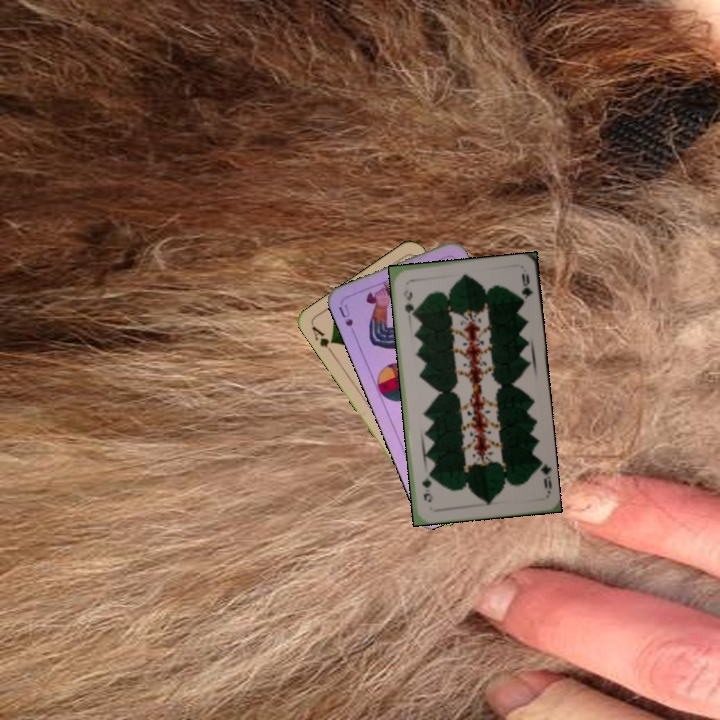G9: (533, 456, 554, 496), (399, 286, 416, 320)
GA: (307, 322, 337, 357)
SU: (334, 300, 359, 339)
